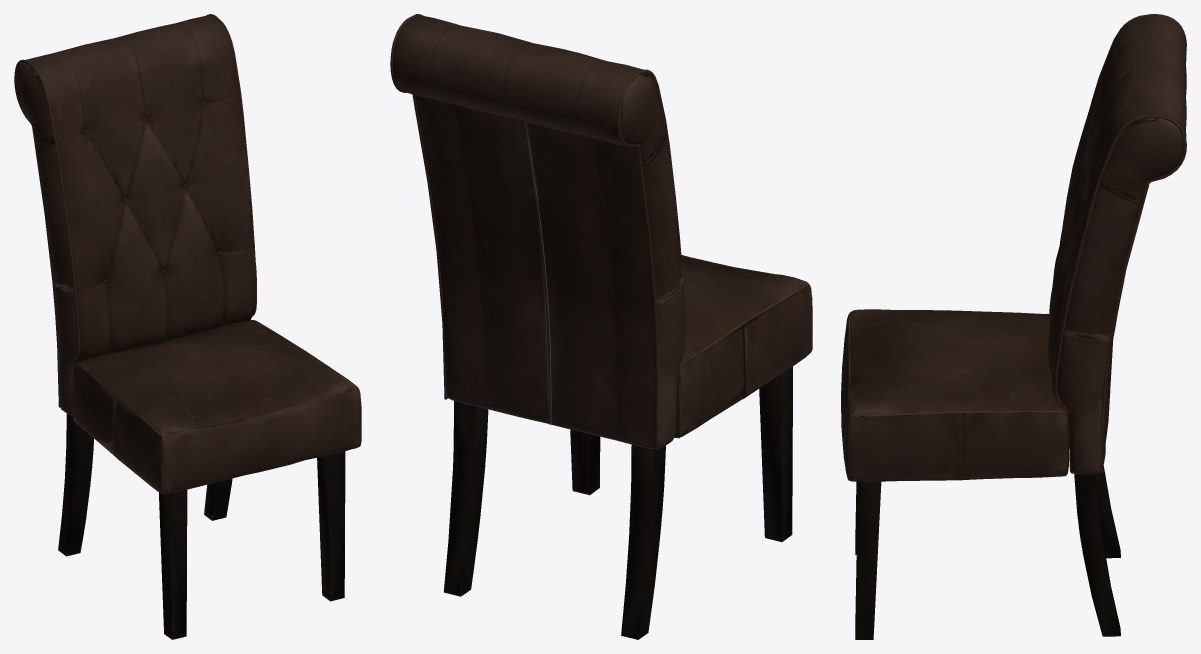
Rendered from dining_chair_02.glb.
3 views of the same model, side by side, from view 1: azimuth 30°, elevation 25°; view 2: azimuth 150°, elevation 25°; view 3: azimuth 270°, elevation 25° (orthographic). The views are drawn at different scales.
Visible parts, largest first — view 1: dining_chair_02; view 2: dining_chair_02; view 3: dining_chair_02.
Part boxes in pixels (x1,y1,x2,y2): dining_chair_02: (14,14,361,639); dining_chair_02: (390,14,812,639); dining_chair_02: (841,14,1186,639).
Bounding box in the file's own units: 0.4336 × 0.9728 × 0.5765.
1 material, 1 textured.
